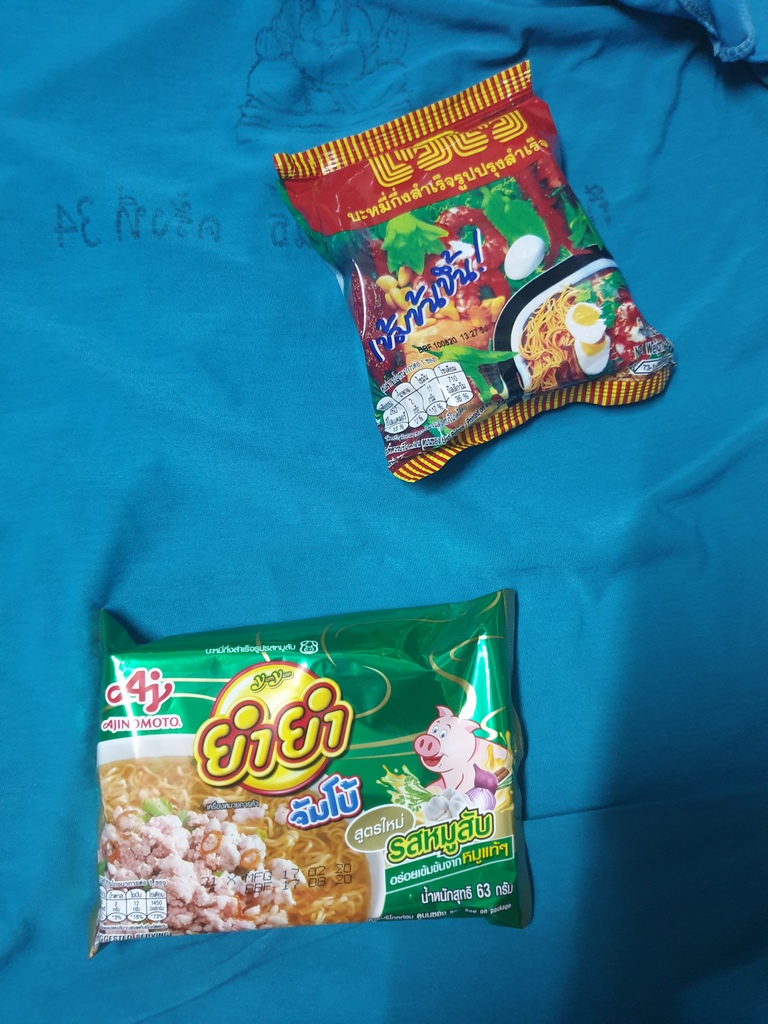waiwai: (289, 105, 681, 428)
yumyum: (93, 612, 539, 935)
